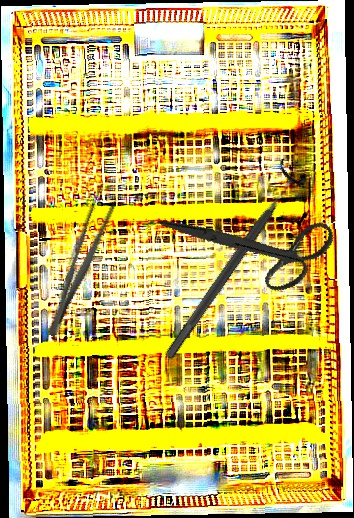Dressing Forceps: (39, 181, 123, 342)
Fixation Ring: (152, 156, 313, 368)
Iris Scissors: (157, 166, 346, 323)
